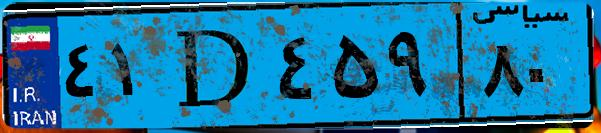0: (525, 38, 570, 115)
1: (110, 28, 158, 98)
4: (270, 28, 330, 110), (57, 26, 110, 100)
5: (330, 28, 385, 110)
8: (475, 38, 525, 113)
9: (385, 28, 445, 110)
D: (158, 12, 270, 120)
